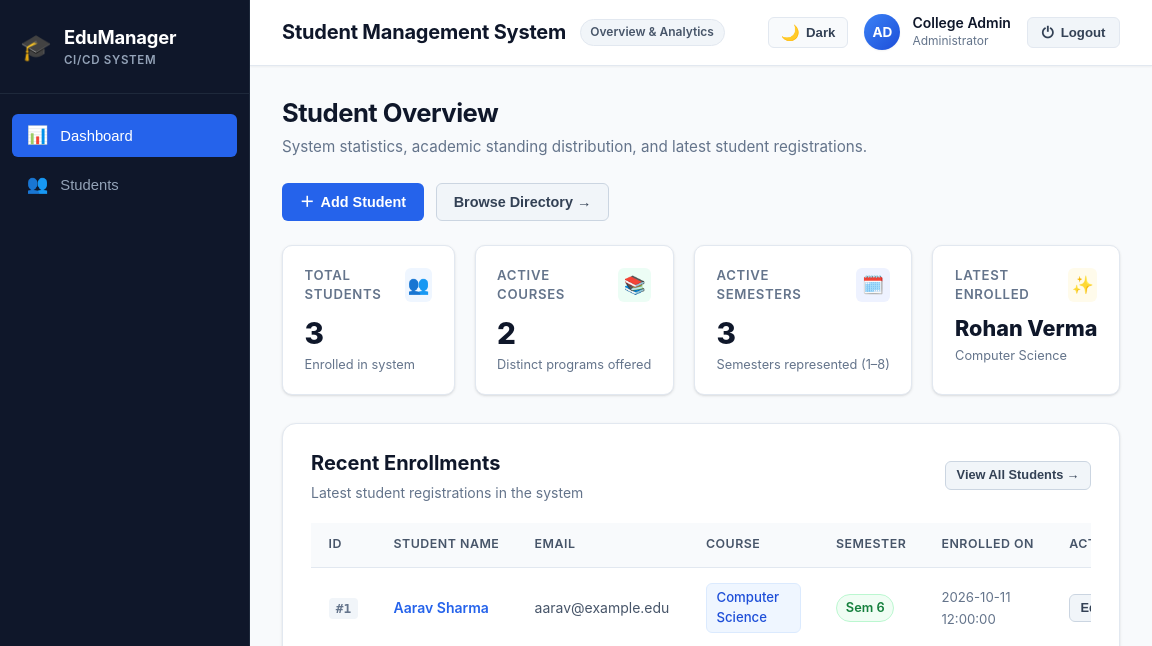
Test: Student Management System - Frontend Tests › navigates between Dashboard and Students pages when clicking sidebar items
The width and height of the screenshot is (1152, 646).
Expected: the heading "Student Overview" is shown, left=282, top=97, right=498, bottom=128
Click Students in the sidebar
Click the button "👥 Students".
click(124, 184)  # box left=12, top=163, right=237, bottom=206
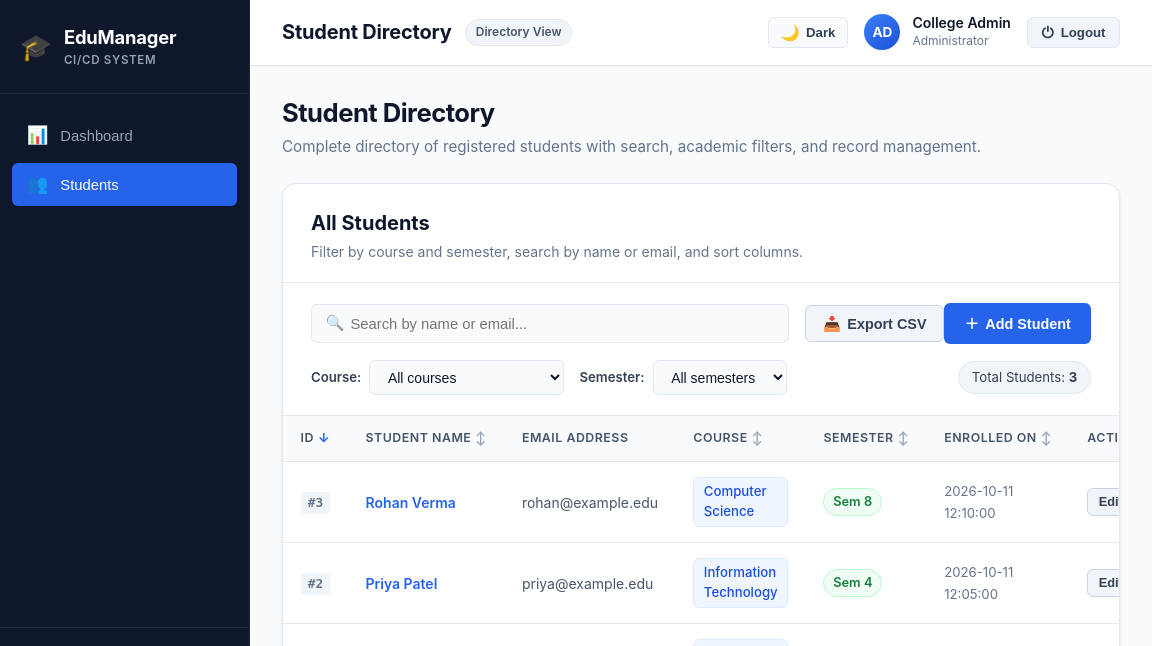
Expected: the heading "All Students" is shown, left=311, top=211, right=430, bottom=235
Expected: the heading "Student Directory" next to "Directory View" is shown, left=282, top=17, right=452, bottom=47
Click Dashboard in the sidebar
Click the button "📊 Dashboard".
click(124, 136)  # box left=12, top=114, right=237, bottom=157
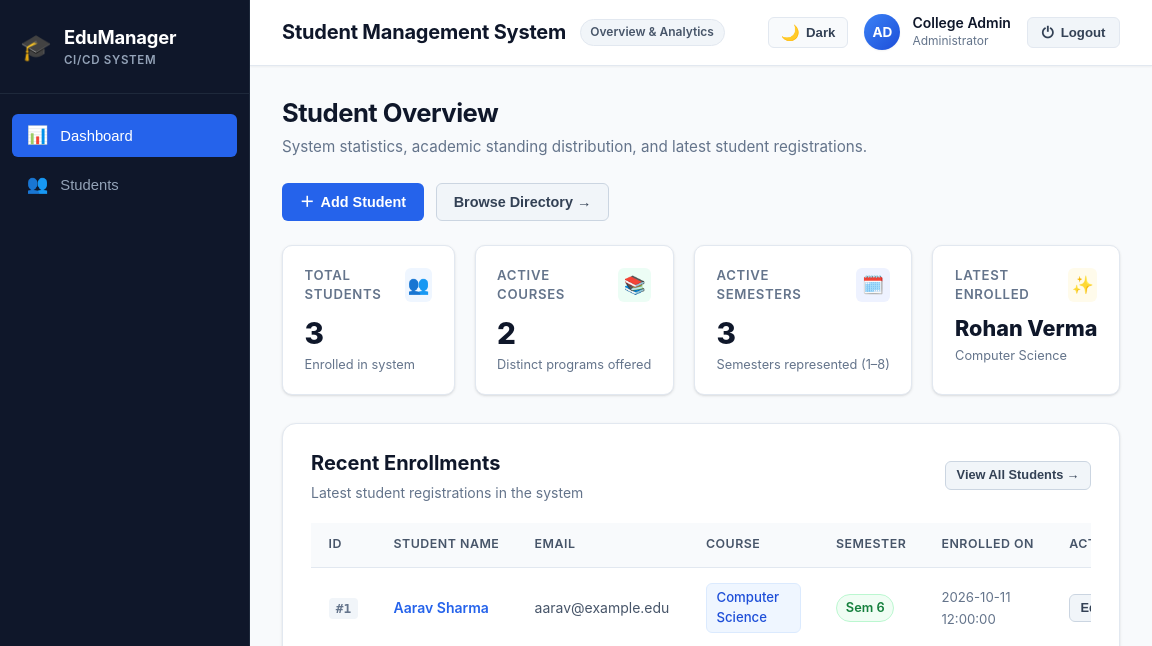
Expected: the heading "Student Overview" is shown, left=282, top=97, right=498, bottom=128
